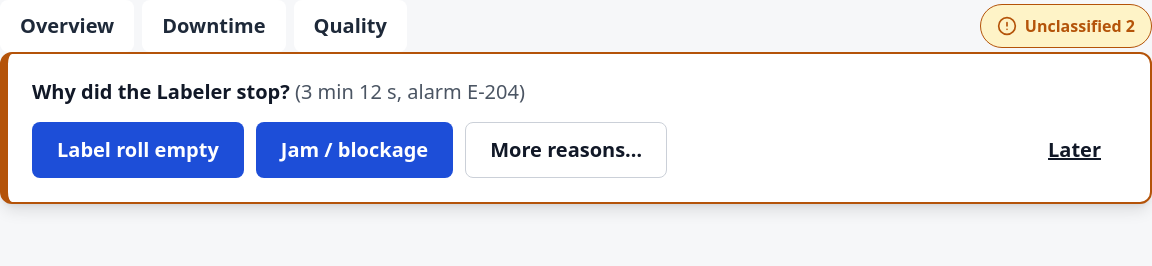
Test: prompts after a line stop › choosing a reason saves it and the badge count goes down
Expected: the link with test id "unclassified-badge" reads "Unclassified 2", 980,4 -> 1151,48
What coordinates should you click on to do the following:
click the button "Label roll empty"
I would click on:
 (138, 150)
Its box is 32,122 -> 244,178.
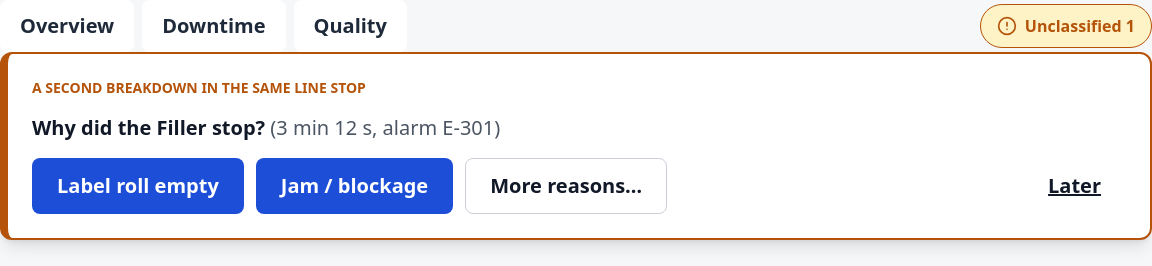
Expected: the link with test id "unclassified-badge" reads "Unclassified 1", 980,4 -> 1151,48
